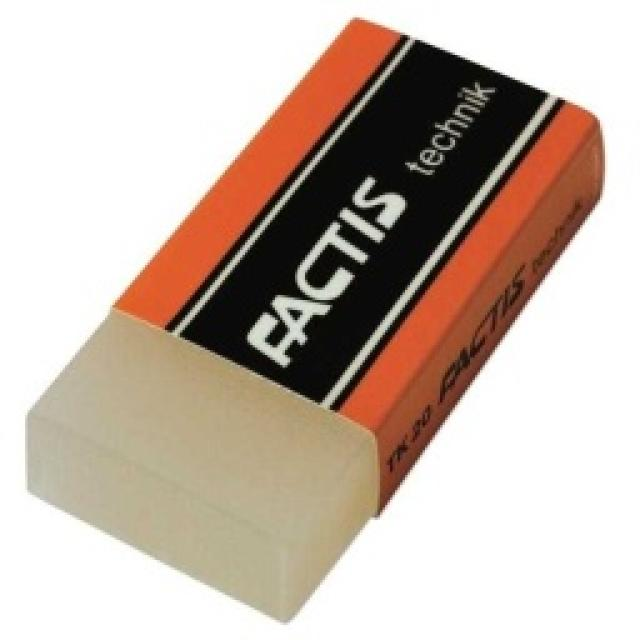Silgi: (25, 17, 610, 627)
